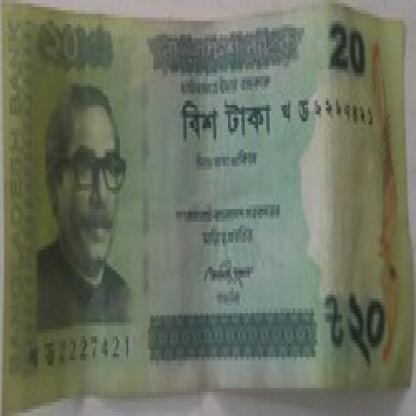Twenty: (176, 94, 274, 152), (34, 21, 116, 83), (325, 288, 386, 367), (321, 24, 373, 90)
